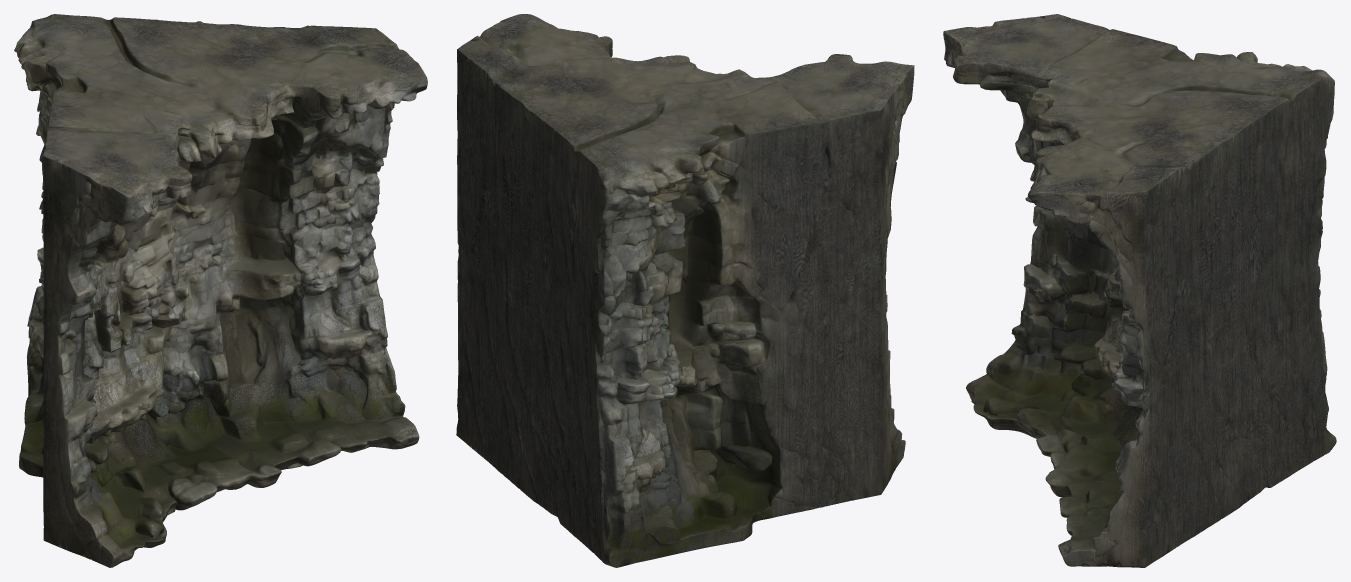
The model's file is cave_wall.glb.
The picture shows the model from 3 angles, left to right: view 1: azimuth 30°, elevation 25°; view 2: azimuth 150°, elevation 25°; view 3: azimuth 270°, elevation 25°; orthographic projection. The views are drawn at different scales.
Visible parts, largest first — view 1: tripo_node_24c330e5-9a39-48f1-8800-2825ca1d63a8; view 2: tripo_node_24c330e5-9a39-48f1-8800-2825ca1d63a8; view 3: tripo_node_24c330e5-9a39-48f1-8800-2825ca1d63a8.
Part boxes in pixels (x1,y1,x2,y2): tripo_node_24c330e5-9a39-48f1-8800-2825ca1d63a8: (14,14,427,567); tripo_node_24c330e5-9a39-48f1-8800-2825ca1d63a8: (456,14,914,567); tripo_node_24c330e5-9a39-48f1-8800-2825ca1d63a8: (943,14,1336,567).
Bounding box in the file's own units: 0.9797 × 0.9713 × 0.9036.
1 material, 1 textured.
